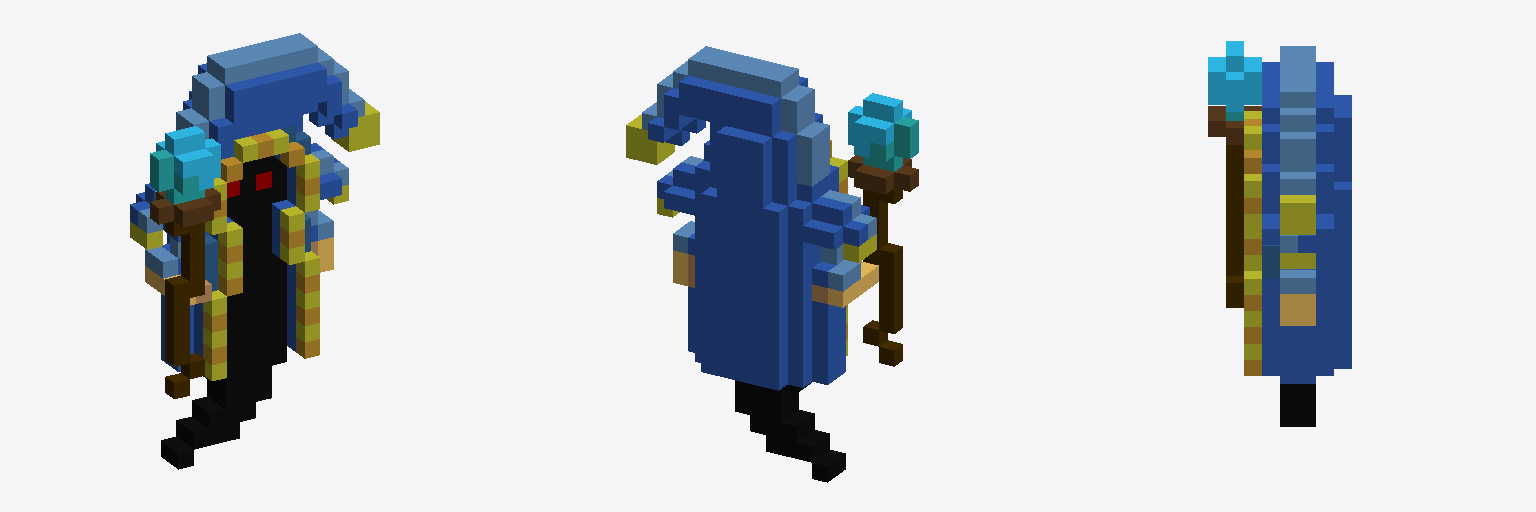
3 views of the same model, side by side, from view 1: azimuth 30°, elevation 25°; view 2: azimuth 150°, elevation 25°; view 3: azimuth 270°, elevation 25° (orthographic).
Bounding box in the file's own units: 16 × 24 × 8.
Materials: 1 (1 with a texture image).